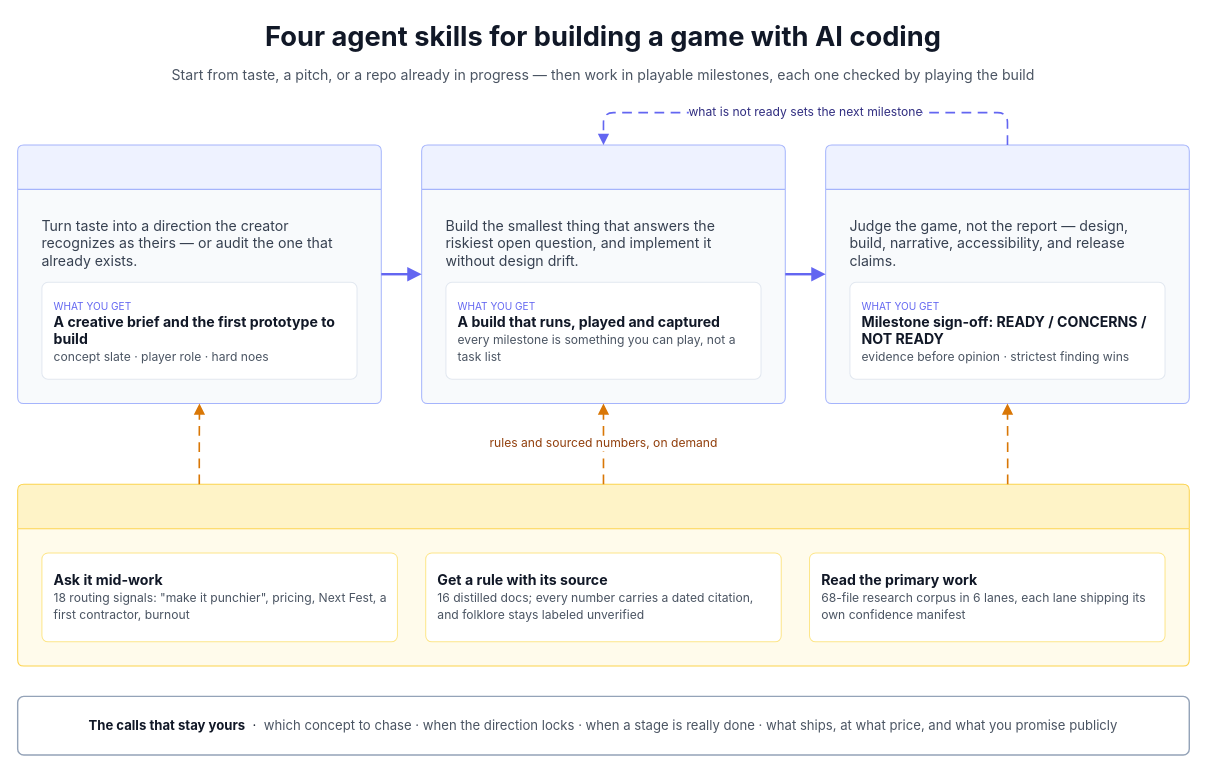
Some shapes in this 1208 by 773 pixel diagram are drawn without their labels. Each missing label, with the box of its shape:
1 · game-direction: (17, 144, 381, 403)
2 · game-production: (421, 144, 785, 403)
3 · game-review: (825, 144, 1189, 403)
4 · game-knowledge — the field manual the three skills consult mid-work: (17, 483, 1189, 666)
